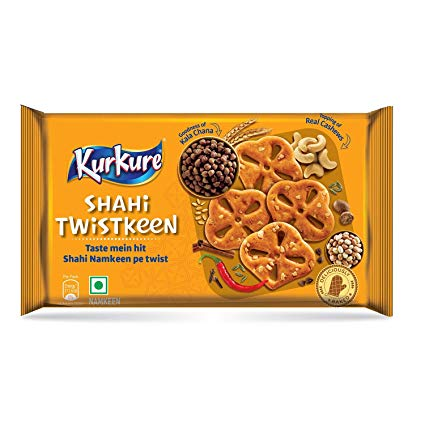kurkure: (63, 140, 164, 188)
plastic: (12, 95, 402, 330)
wrapper: (42, 118, 368, 310)
